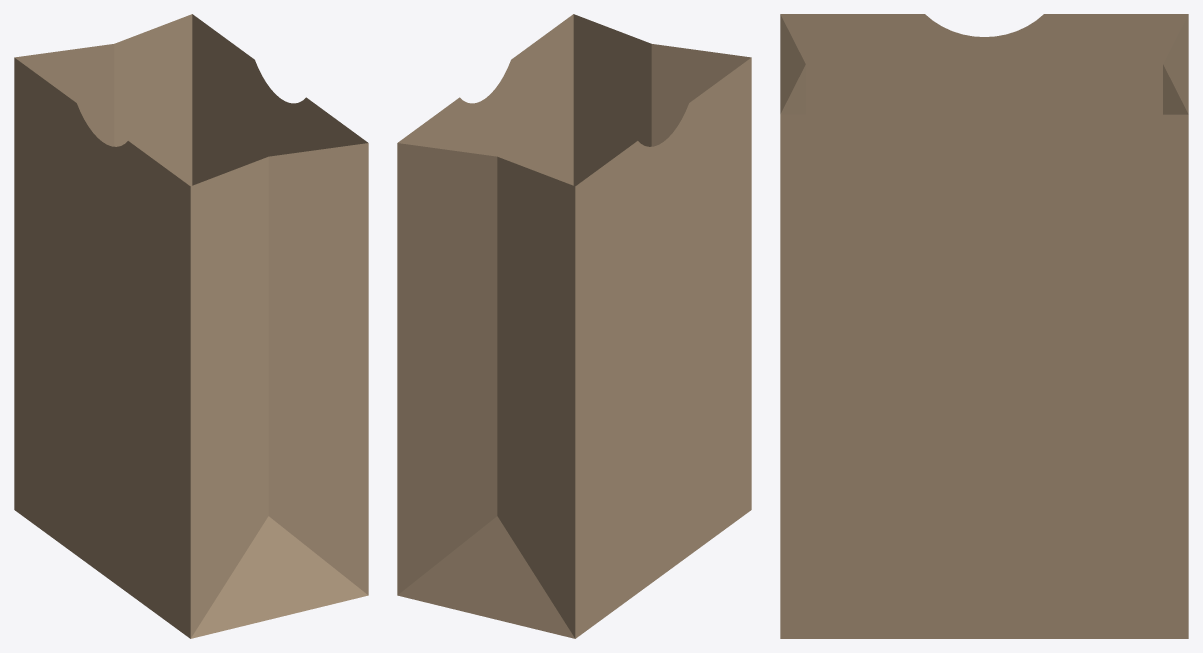
The model's file is bag.gltf.
3 renders of one model, left to right at view 1: azimuth 30°, elevation 25°; view 2: azimuth 150°, elevation 25°; view 3: azimuth 270°, elevation 25°, orthographic. The views are drawn at different scales.
Visible parts, largest first — view 1: instance_0.003, instance_0, instance_0.001, instance_0.002; view 2: instance_0.003, instance_0.002, instance_0.001, instance_0; view 3: instance_0.001, instance_0.003, instance_0, instance_0.002.
Part boxes in pixels (bbox=[...]): instance_0.003: bbox=[14, 57, 190, 638]; instance_0: bbox=[190, 143, 368, 638]; instance_0.001: bbox=[191, 14, 368, 638]; instance_0.002: bbox=[14, 14, 192, 186]; instance_0.003: bbox=[575, 57, 751, 638]; instance_0.002: bbox=[397, 143, 575, 638]; instance_0.001: bbox=[397, 14, 574, 638]; instance_0: bbox=[573, 14, 751, 186]; instance_0.001: bbox=[780, 114, 1188, 638]; instance_0.003: bbox=[780, 14, 1188, 137]; instance_0: bbox=[780, 14, 805, 114]; instance_0.002: bbox=[1163, 14, 1188, 114].
Size of the model in its own units: 0.1778 by 0.4318 by 0.3048.
